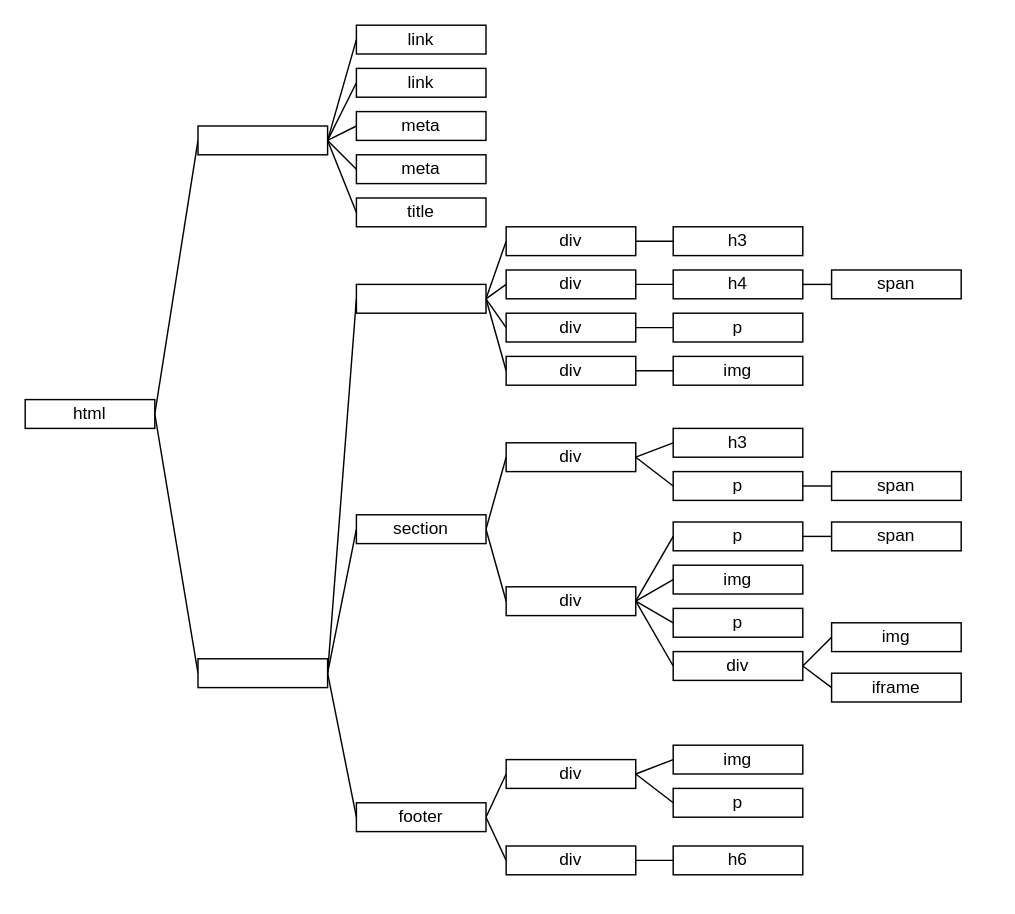
This 1015x914 diagram has some shape labels left out. Here are the shapes that lost their labels. From the top down, the centre of each, then its label:
At (x=262, y=140): "head".
At (x=420, y=298): "header".
At (x=262, y=672): "body".
